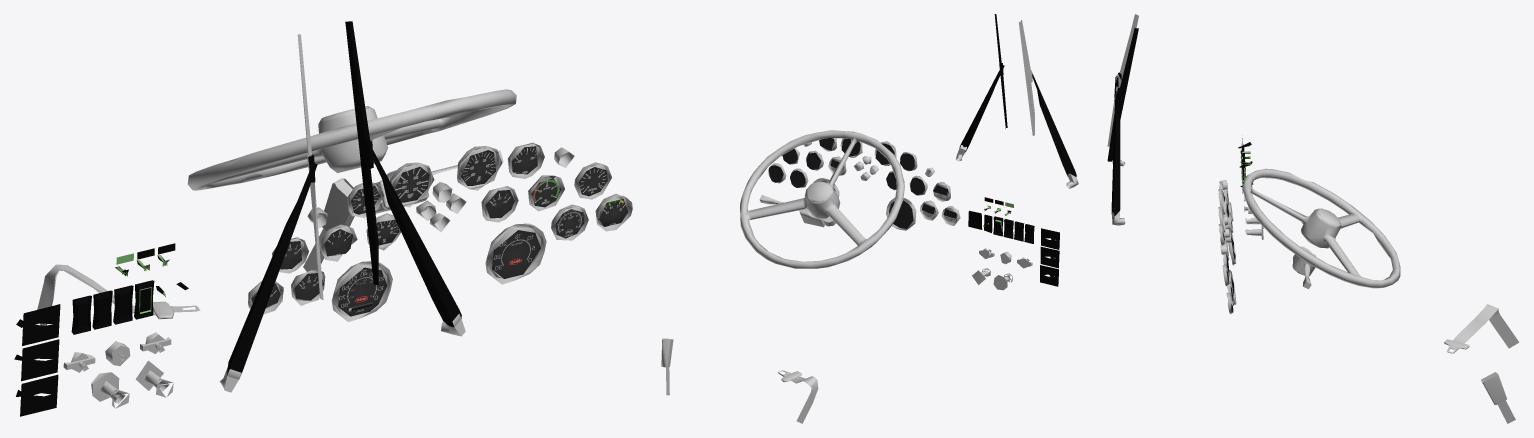
Rendered from TruckInterior30LOD_Separated.fbx.
3 renders of one model, left to right at view 1: azimuth 30°, elevation 25°; view 2: azimuth 150°, elevation 25°; view 3: azimuth 270°, elevation 25°, orthographic. The views are drawn at different scales.
Visible parts, largest first — view 1: Gauges_Mesh, WiperArmsMesh, SteeringWheel_Mesh, AuxilarySettings_Switches_Mesh, SeatBelt_Mesh, WiperContorlMesh, AirBrake_Control_Mesh, Parking_Brake_Mesh, Light_Switches_Mesh; view 2: SteeringWheel_Mesh, Gauges_Mesh, WiperArmsMesh, AuxilarySettings_Switches_Mesh, SeatBelt_Mesh, Horn, Turning_Signal_Mesh; view 3: SteeringWheel_Mesh, WiperArmsMesh, SeatBelt_Mesh, Gauges_Mesh, Turning_Signal_Mesh.
Part boxes in pixels (x1=…): Gauges_Mesh: x1=248, y1=142, x2=632, y2=321; WiperArmsMesh: x1=220, y1=21, x2=465, y2=392; SteeringWheel_Mesh: x1=187, y1=89, x2=516, y2=190; AuxilarySettings_Switches_Mesh: x1=14, y1=280, x2=188, y2=416; SeatBelt_Mesh: x1=37, y1=178, x2=354, y2=325; WiperContorlMesh: x1=63, y1=332, x2=171, y2=372; AirBrake_Control_Mesh: x1=91, y1=372, x2=129, y2=408; Parking_Brake_Mesh: x1=135, y1=360, x2=173, y2=397; Light_Switches_Mesh: x1=115, y1=243, x2=175, y2=276; SteeringWheel_Mesh: x1=740, y1=130, x2=904, y2=268; Gauges_Mesh: x1=768, y1=138, x2=960, y2=230; WiperArmsMesh: x1=955, y1=14, x2=1078, y2=188; AuxilarySettings_Switches_Mesh: x1=968, y1=210, x2=1059, y2=286; SeatBelt_Mesh: x1=661, y1=338, x2=818, y2=423; Horn: x1=805, y1=181, x2=832, y2=204; Turning_Signal_Mesh: x1=759, y1=195, x2=835, y2=227; SteeringWheel_Mesh: x1=1242, y1=168, x2=1400, y2=288; WiperArmsMesh: x1=1107, y1=14, x2=1138, y2=225; SeatBelt_Mesh: x1=1444, y1=304, x2=1519, y2=423; Gauges_Mesh: x1=1218, y1=180, x2=1236, y2=314; Turning_Signal_Mesh: x1=1292, y1=246, x2=1315, y2=289.
Size of what is drawn, in the model's own units: 101 by 94.6 by 112.
